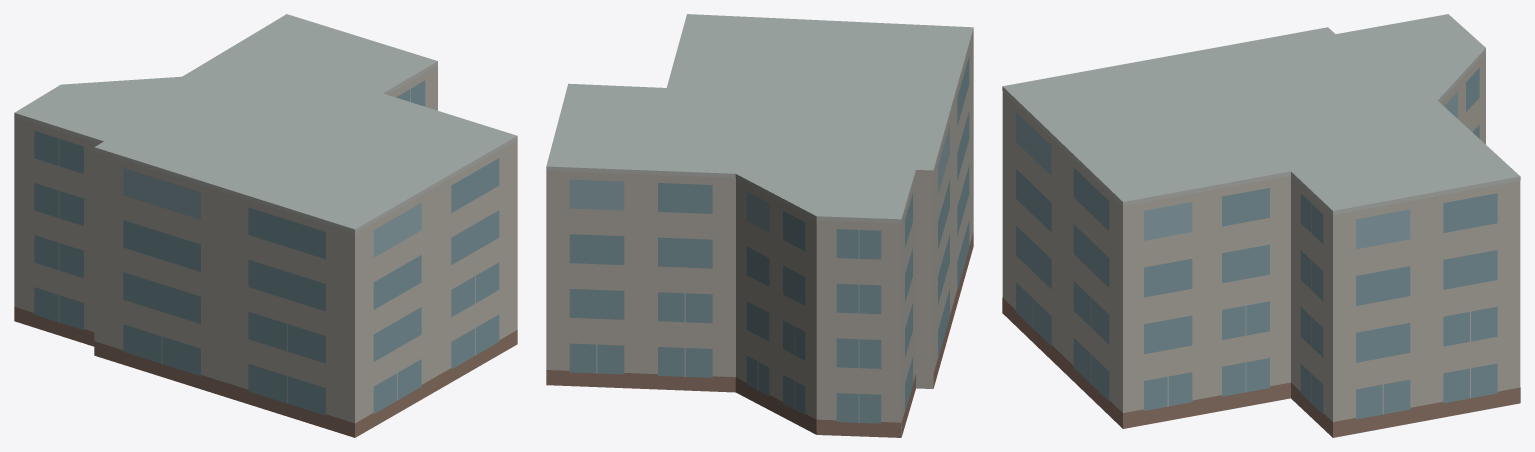
Rendered from survey-upis-32498916.glb.
The picture shows the model from 3 angles, left to right: view 1: azimuth 30°, elevation 25°; view 2: azimuth 150°, elevation 25°; view 3: azimuth 270°, elevation 25°; orthographic projection. The views are drawn at different scales.
Visible parts, largest first — view 1: survey-upis-32498916.tmp; view 2: survey-upis-32498916.tmp; view 3: survey-upis-32498916.tmp.
Part boxes in pixels (box(x1,y1,x2,y2)): survey-upis-32498916.tmp: box(14, 14, 517, 437); survey-upis-32498916.tmp: box(546, 14, 973, 437); survey-upis-32498916.tmp: box(1002, 14, 1520, 437).
Bounding box in the file's own units: 24.02 × 12.9 × 26.69.
